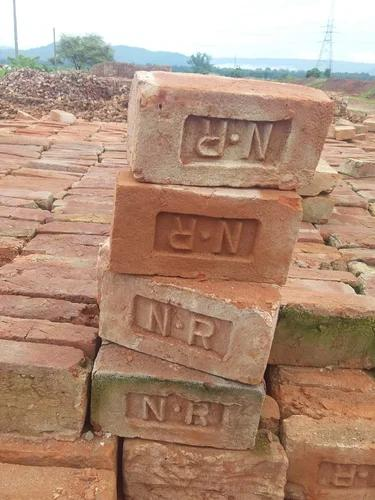brick: (110, 185, 304, 286), (135, 91, 334, 184), (101, 280, 267, 382), (91, 375, 262, 449), (126, 448, 285, 498), (0, 366, 80, 438), (273, 313, 375, 369), (291, 443, 375, 496)
